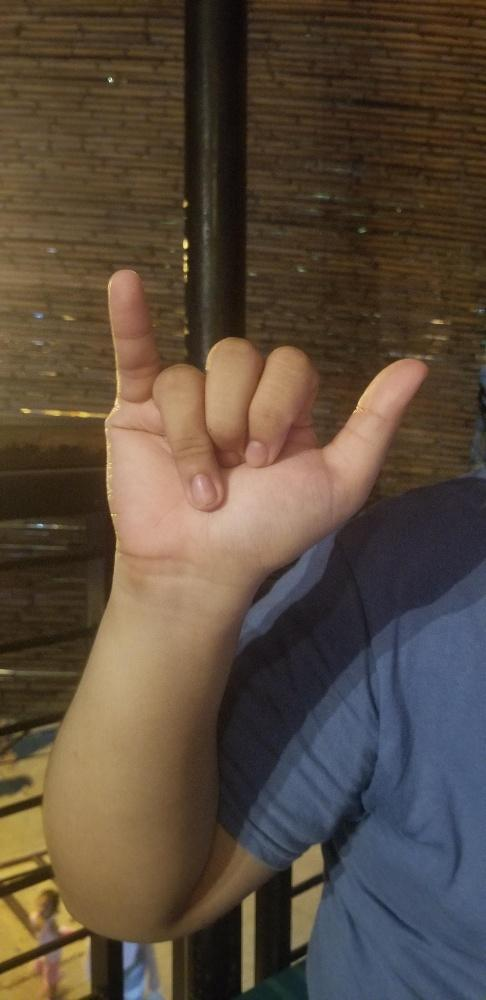y: (103, 264, 428, 550)
